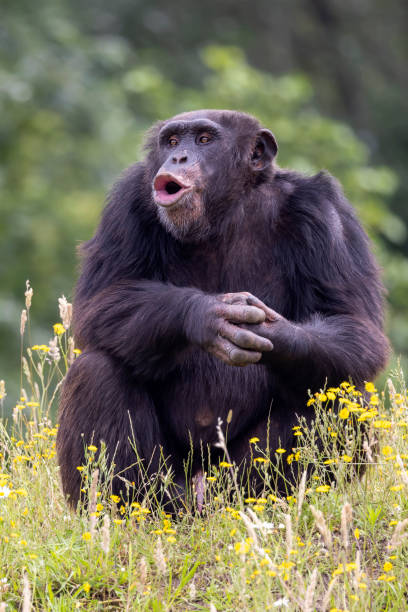chimpanzee: (129, 99, 289, 262)
